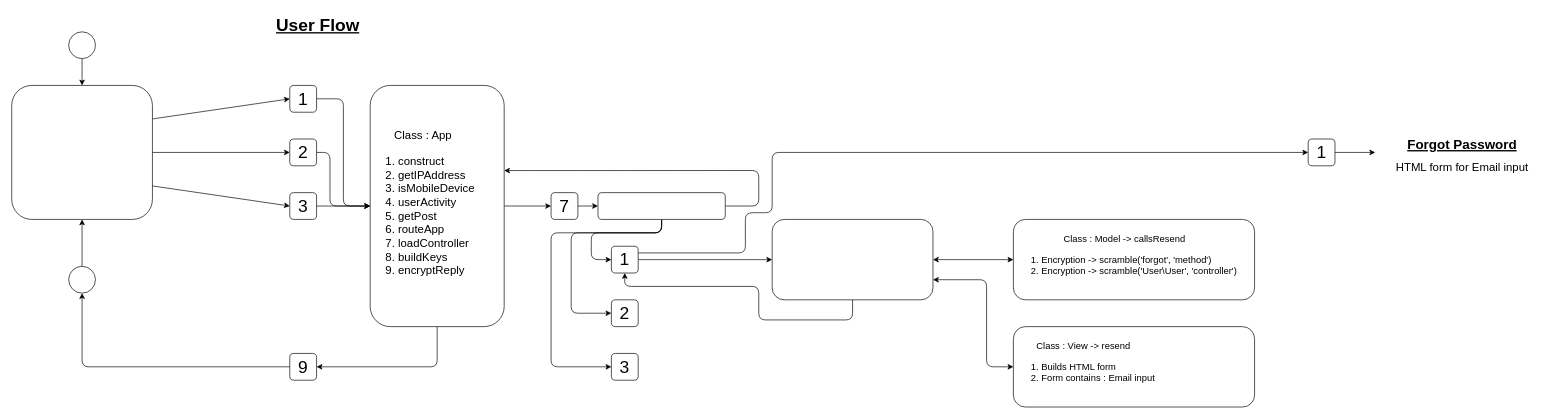
This 1565x419 diagram has some shape labels left out. Each missing label, with the centre of its shape:
App -> loadController: [661,205]
Class : User -> resend Model -> callsResend View -> resend: [852,259]
GUI - index.php Submit -> login Forgot Password Register: [81,152]
